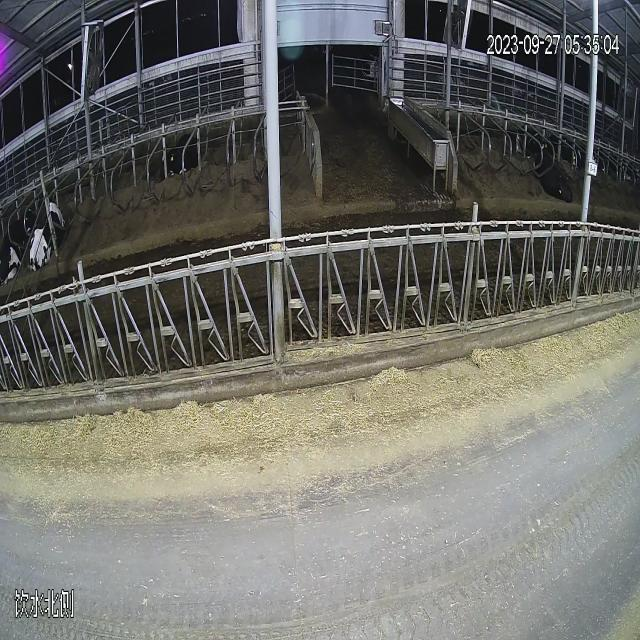lying down: (5, 186, 99, 328), (132, 110, 210, 198), (517, 125, 576, 198)
